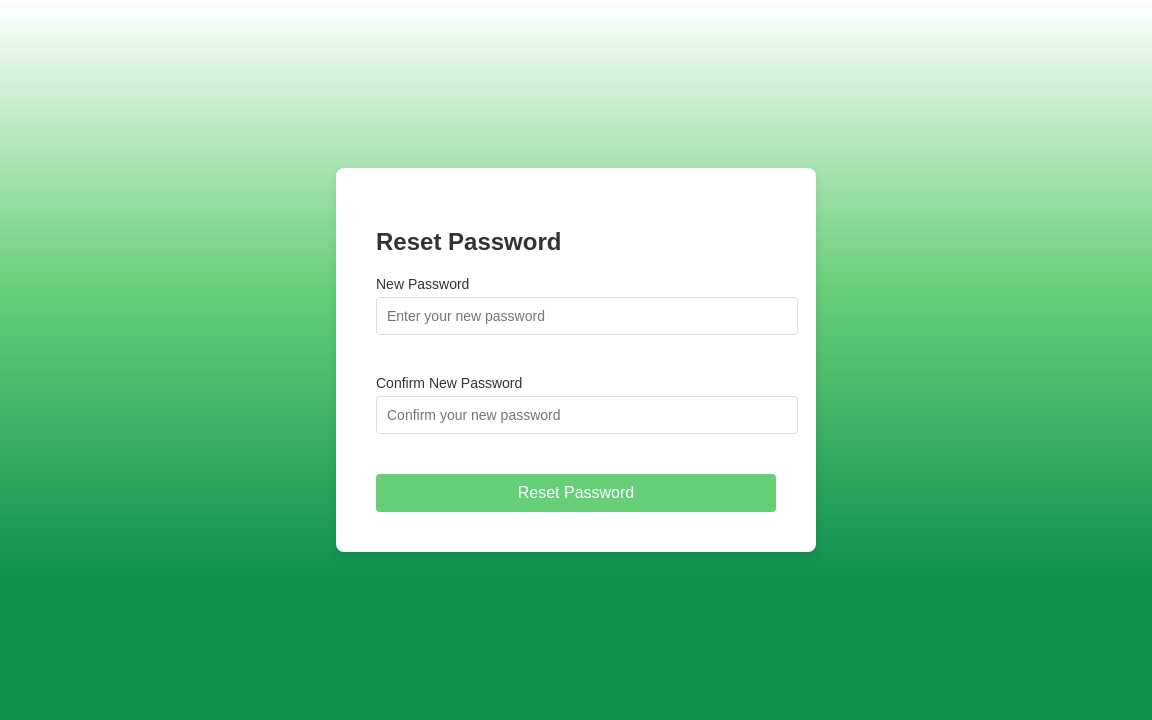
Test case: ResetPassword Component › shows success message when password is reset successfully
The image size is (1152, 720).
Type "Password1!" into the password field with test id "password-input".
click(587, 316); type("Password1!")  # box x1=376 y1=297 x2=798 y2=335
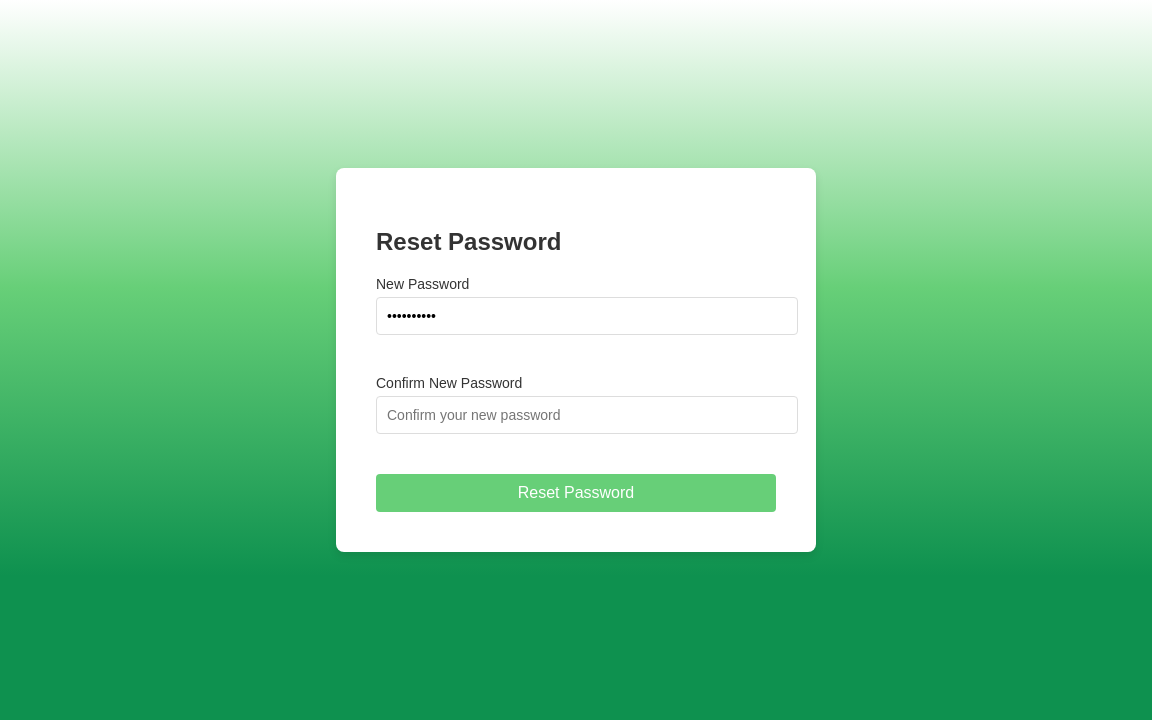
Type "Password1!" into the password field with test id "confirm-password-input".
click(587, 415); type("Password1!")  # box x1=376 y1=396 x2=798 y2=434
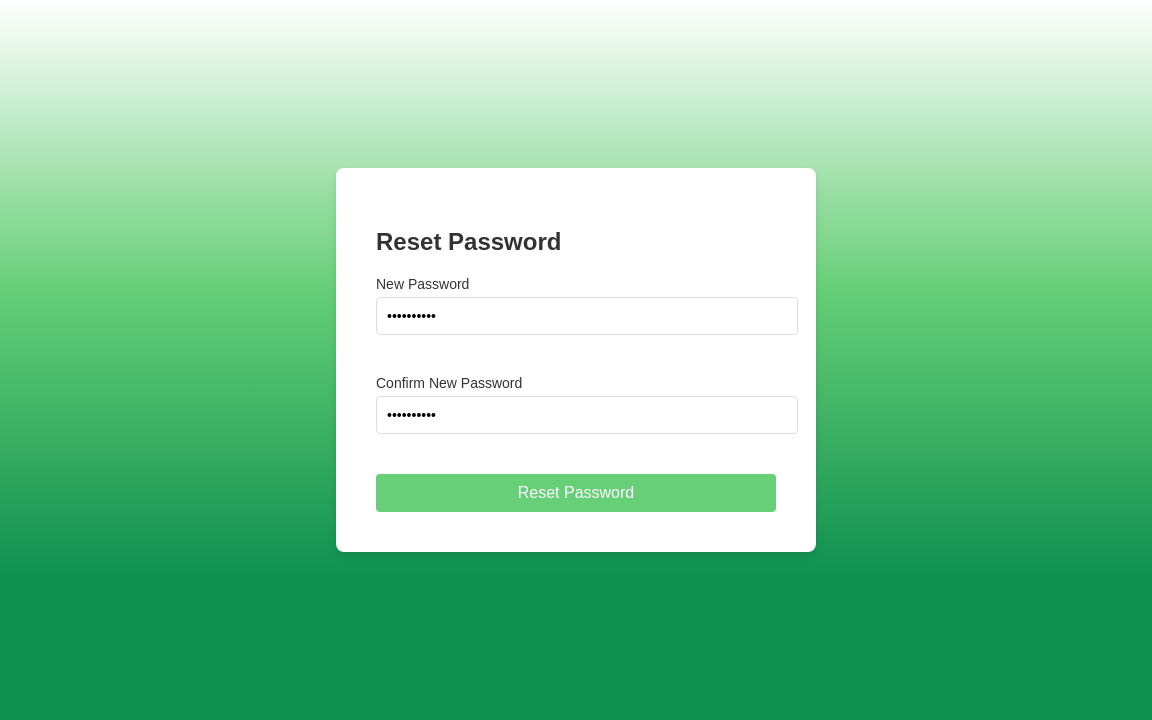
Click the button with test id "submit-button".
click(576, 493)  # box x1=376 y1=474 x2=776 y2=512
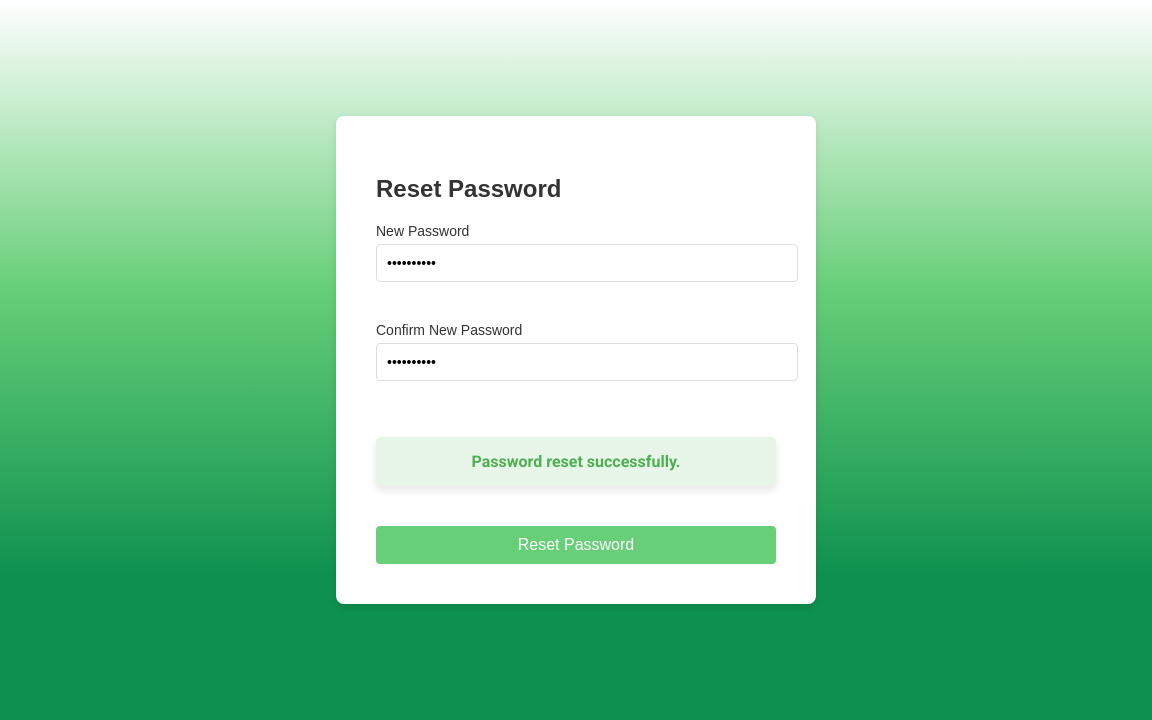
expect the text with test id "auth-message" reads "Password reset successfully.": met, box x1=472 y1=452 x2=680 y2=472
